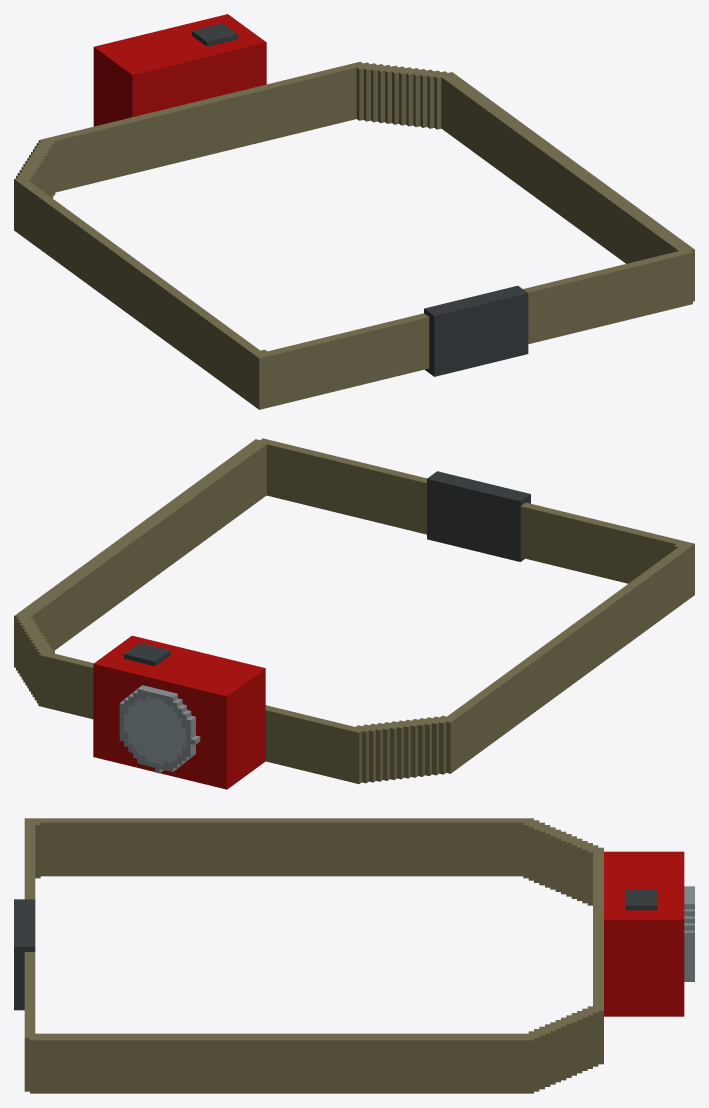
The model's file is headlamp.glb.
3 renders of one model, top to bottom at view 1: azimuth 30°, elevation 25°; view 2: azimuth 150°, elevation 25°; view 3: azimuth 270°, elevation 25°, orthographic. The views are drawn at different scales.
Visible parts, largest first — view 1: equipment:headlamp; view 2: equipment:headlamp; view 3: equipment:headlamp.
Boxes of the visible parts, x1,y1,x2,y2 form: equipment:headlamp: [14, 14, 694, 409]; equipment:headlamp: [14, 438, 694, 789]; equipment:headlamp: [14, 818, 694, 1093].
Bounding box in the file's own units: 0.196 × 0.044 × 0.254.
